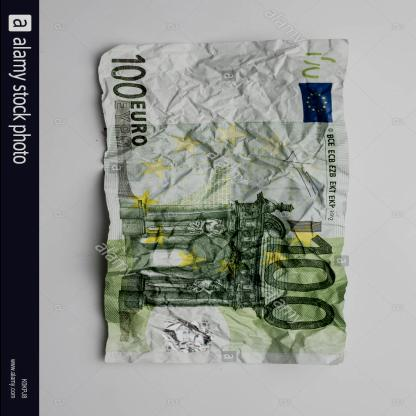euro_banknote: (62, 77, 388, 329)
